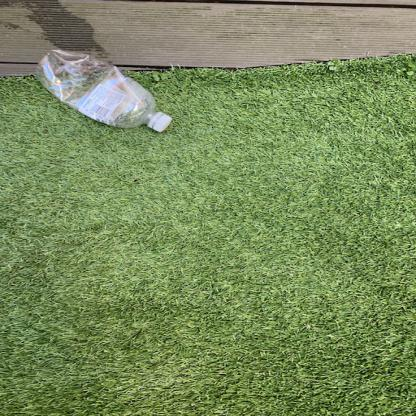plastic-bottles: (33, 41, 180, 144)
